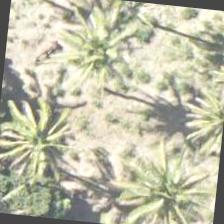Kelapa_Sawit: (44, 1, 143, 100), (0, 79, 90, 179), (116, 141, 215, 223), (162, 82, 223, 178)
